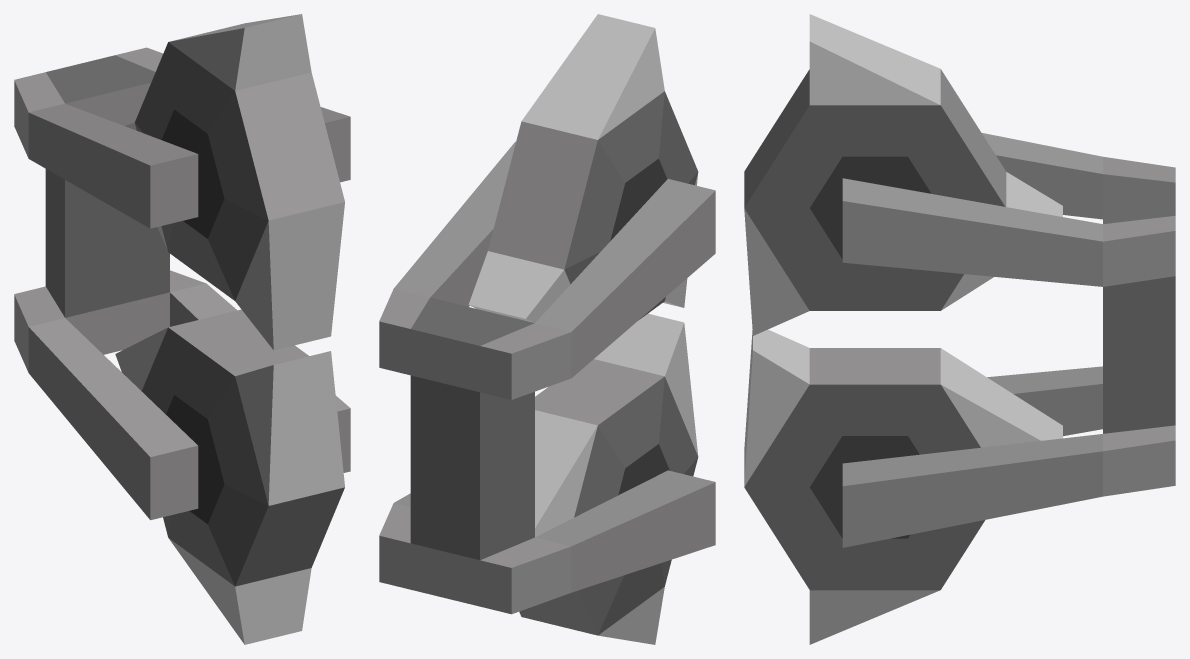
File: Excavator.fbx
3 views of the same model, side by side, from view 1: azimuth 30°, elevation 25°; view 2: azimuth 150°, elevation 25°; view 3: azimuth 270°, elevation 25° (orthographic). The views are drawn at different scales.
Visible parts, largest first — view 1: Excavator; view 2: Excavator; view 3: Excavator.
Boxes of the visible parts, x1=… form: Excavator: x1=14, y1=14, x2=350, y2=644; Excavator: x1=379, y1=14, x2=715, y2=644; Excavator: x1=744, y1=14, x2=1175, y2=644.
Bounding box in the file's own units: 213 × 329 × 112.
